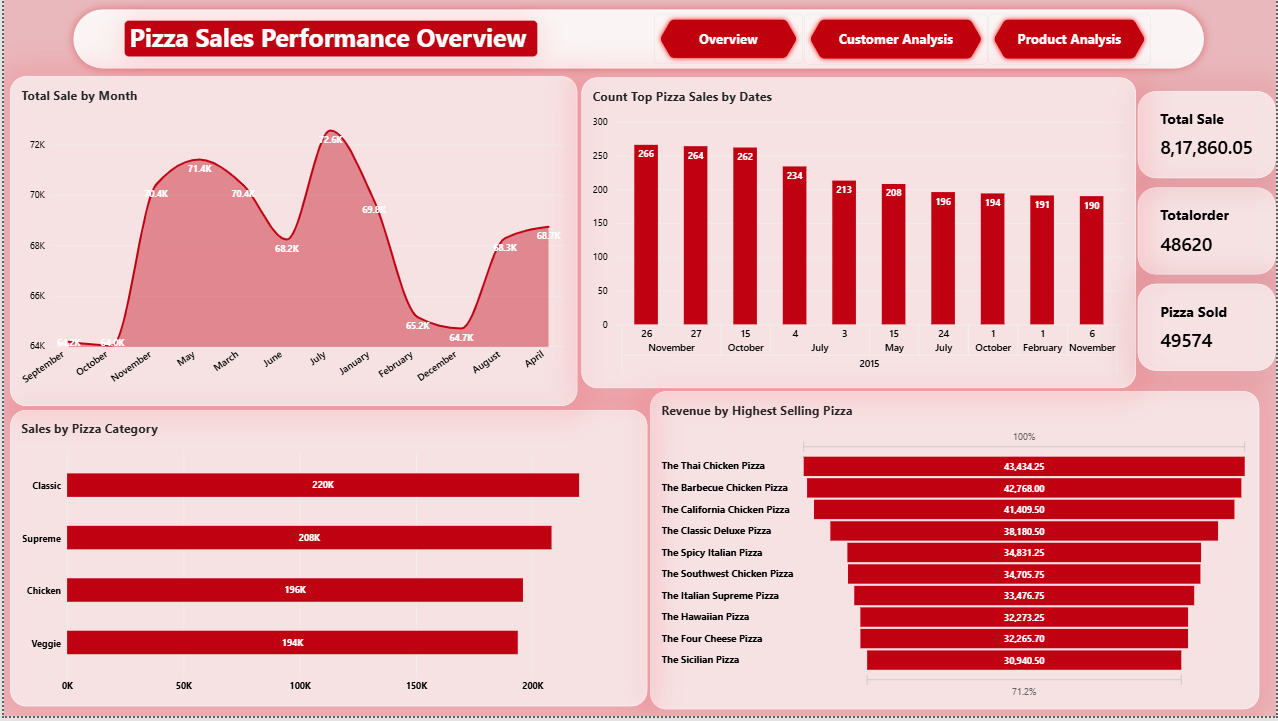

This screenshot's page, from the dashboard's own definition file:
{"tool":"powerbi","page":{"name":"Overview","canvas":[1920,1080],"ordinal":0},"visuals":[{"type":"funnel","title":"Revenue by Highest Selling Pizza","fields":{"Category":["pizza_types.name"],"Y":["Sum(order_details.Amount)"]},"box":[975.4,589.9,919.5,480],"z":0},{"type":"cardVisual","fields":{"Data":["order_details.Totalorder"]},"box":[1711.8,283.5,208.2,131.1],"z":1000},{"type":"clusteredBarChart","title":"Sales by Pizza Category ","fields":{"Category":["pizza_types.category"],"Y":["Sum(order_details.Amount)"]},"box":[9.6,618.8,961.9,447.2],"z":2000},{"type":"shape","box":[90.6,0,1734.9,117.6],"z":3000},{"type":"actionButton","box":[981.2,21.2,225,76.2],"z":4000},{"type":"textbox","box":[181.2,30.8,624.6,55.9],"z":5000},{"type":"actionButton","box":[1206.7,21.2,277.6,77.1],"z":6000},{"type":"actionButton","box":[1484.3,21.2,246.7,77.1],"z":7000},{"type":"cardVisual","fields":{"Data":["order_details.Total Sale"]},"box":[1711.8,137,208.2,131.1],"z":8000},{"type":"areaChart","fields":{"Category":["orders.Month"],"Y":["order_details.Total Sale"]},"box":[9.6,115.7,855.9,497.3],"z":9000},{"type":"clusteredColumnChart","title":"Count Top Pizza Sales by Dates","fields":{"Category":["orders.Date Hierarchy.Year","orders.Date Hierarchy.Month","orders.Date Hierarchy.Day"],"Y":["Sum(order_details.quantity)"]},"box":[871.3,117.6,836.6,468.4],"z":10000},{"type":"cardVisual","fields":{"Data":["Sum(order_details.quantity)"]},"box":[1711.8,428.1,208.2,131.1],"z":11000}]}

Visuals, with their boxes in screenshot pixels (x1, y1, x2, y2), scaled from the page's 1920x1080 canvas onto the 1278x721 screenshot:
"Revenue by Highest Selling Pizza" funnel: 649, 394, 1261, 714
cardVisual - order_details.Totalorder: 1139, 189, 1277, 277
"Sales by Pizza Category " clusteredBarChart: 6, 413, 647, 712
shape: 60, 0, 1215, 79
actionButton: 653, 14, 803, 65
textbox: 121, 21, 536, 58
actionButton: 803, 14, 988, 66
actionButton: 988, 14, 1152, 66
cardVisual - order_details.Total Sale: 1139, 91, 1277, 179
areaChart - orders.Month x order_details.Total Sale: 6, 77, 576, 409
"Count Top Pizza Sales by Dates" clusteredColumnChart: 580, 79, 1137, 391
cardVisual - Sum(order_details.quantity): 1139, 286, 1277, 373
